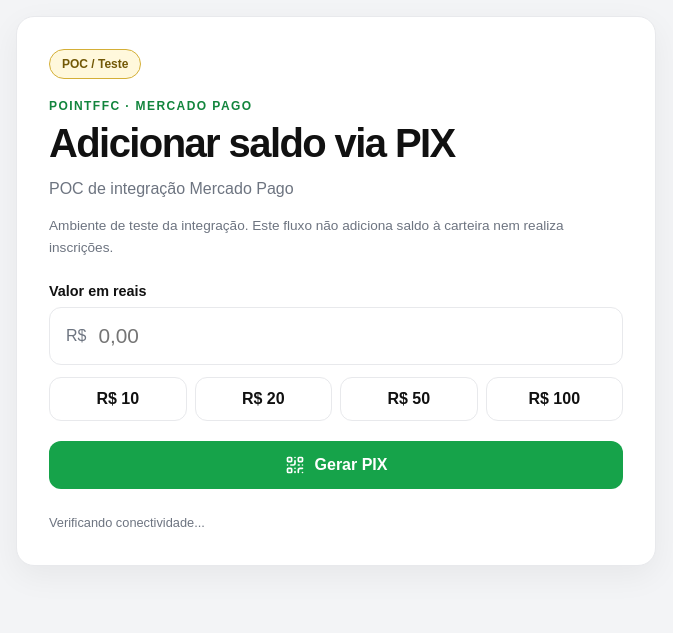
Test: não inicia polling se criação retornar REJEITADO
Step 1. Click the button "R$ 10" → (118, 399), box [49,377,186,421]
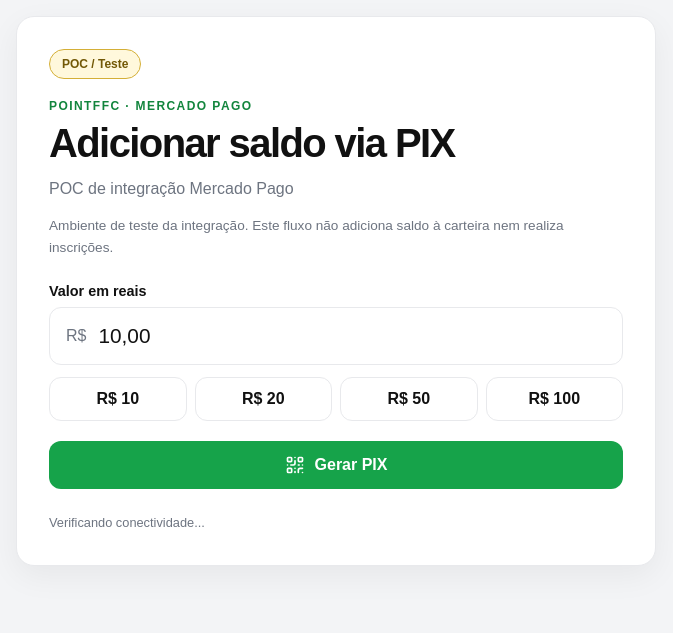
Step 2. Click the button "Gerar PIX" → (336, 465), box [49,441,623,489]
Wait 10000 ms
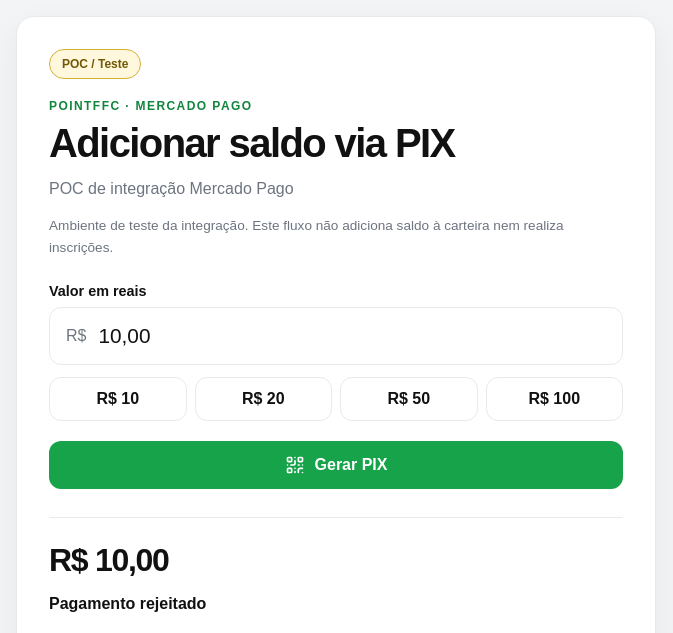
Expected: the text "Pagamento rejeitado" is shown, [49,595,206,612]
